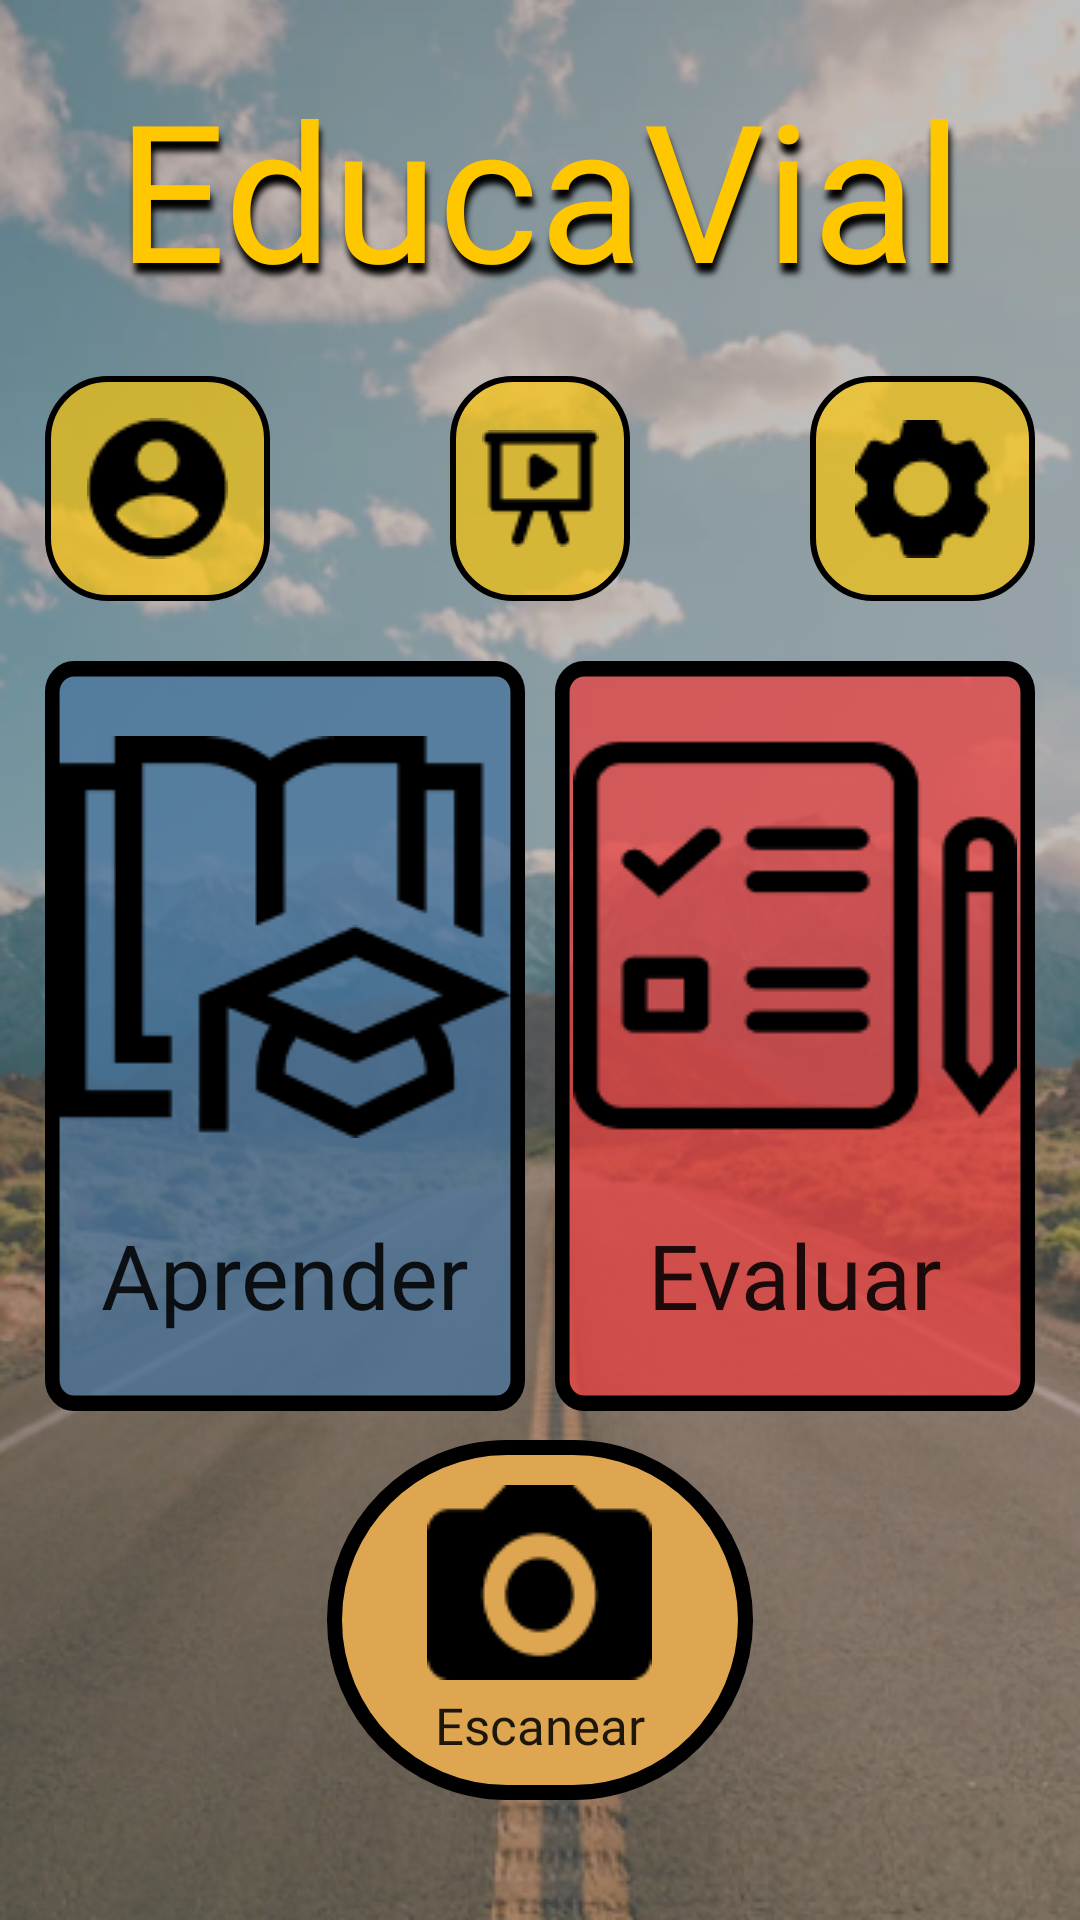

Icon click points for this 1080×1920 phone screenshot, format [x,y]:
Boton para acceder al perfil: [157,488]
Botón para acceder a ajustes: [922,488]
Botón para ver el tutorial: [540,488]
